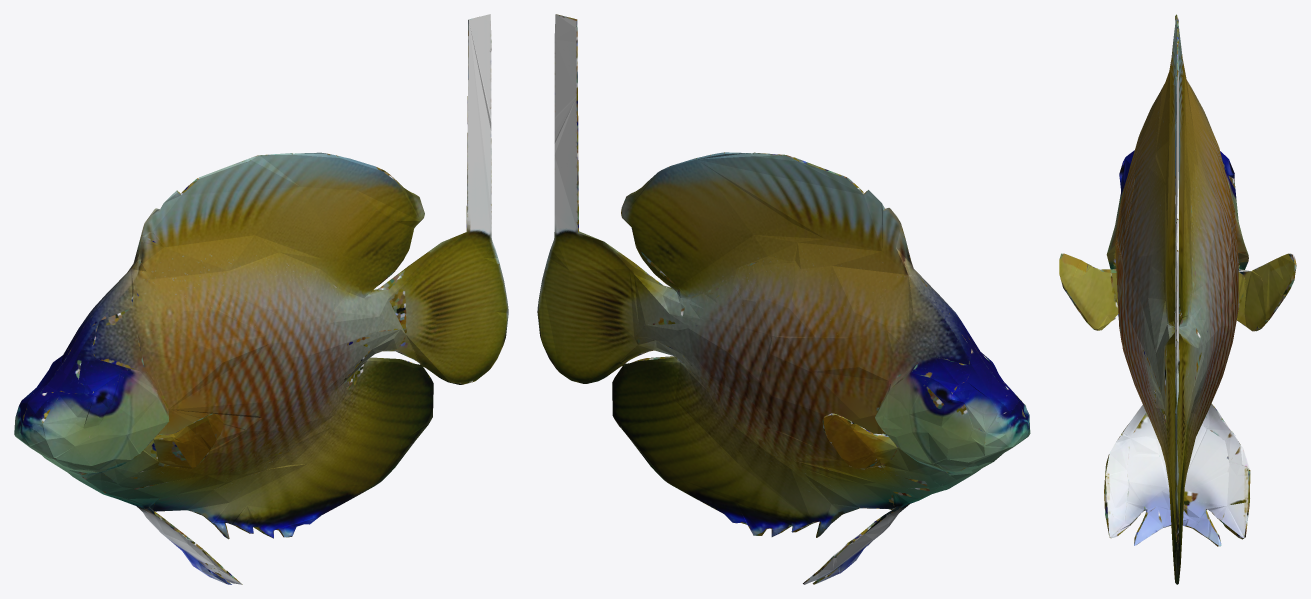
File: fish_0113_smpl23_resized.glb
The picture shows the model from 3 angles, left to right: view 1: azimuth 30°, elevation 25°; view 2: azimuth 150°, elevation 25°; view 3: azimuth 270°, elevation 25°; orthographic projection. The views are drawn at different scales.
Parts seen in each view (by area): view 1: world; view 2: world; view 3: world.
Part boxes in pixels (box(x1,y1,x2,y2)): world: box(14, 14, 508, 584); world: box(537, 14, 1030, 584); world: box(1059, 14, 1296, 584).
Bounding box in the file's own units: 1.99 × 1.91 × 0.6456.
1 material, 1 textured.
